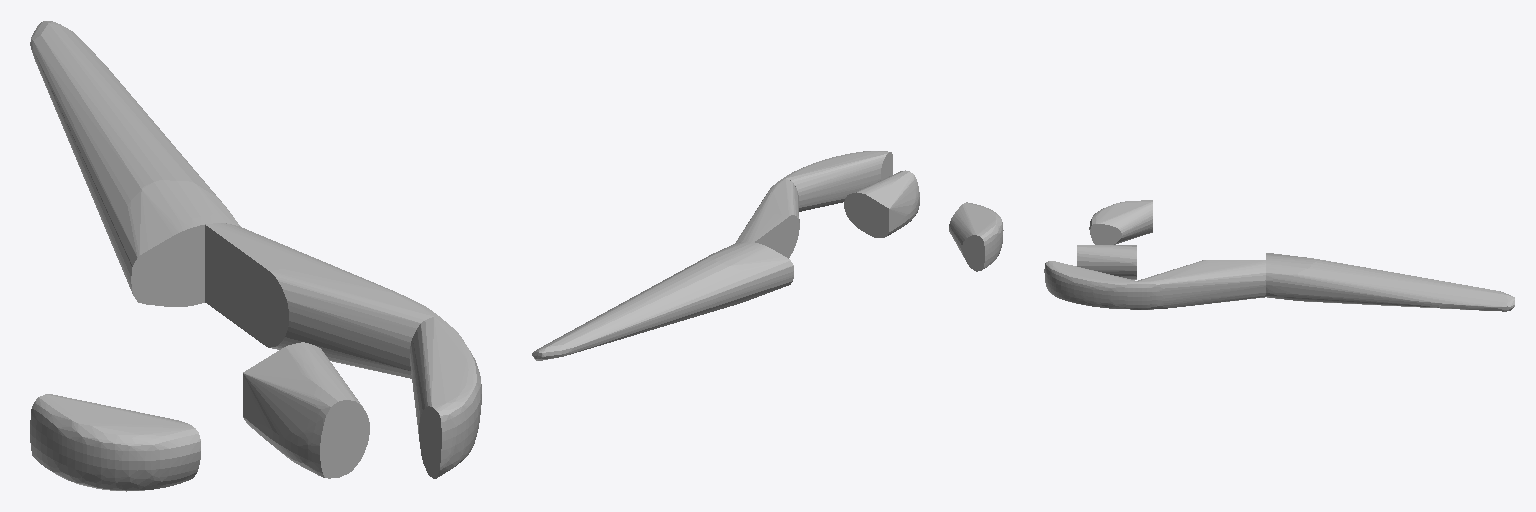
The robot description file, URDF, robot "root":
<robot name="root">
  <link name="link_coacd_convex_piece_0">
    <inertial>
      <origin xyz="0 0 0" rpy="0 0 0"/>
      <inertia ixx="6.97E-09" ixy="-1.32E-08" ixz="-7.20E-11" iyy="8.51E-09" iyz="-9.09E-11" izz="1.52E-08"/>
    </inertial>
    <visual>
      <origin xyz="0 0 0" rpy="0 0 0"/>
      <geometry>
        <mesh filename="coacd_convex_piece_0.obj" scale="1.0000E+00 1.0000E+00 1.0000E+00"/>
      </geometry>
      <material name="">
        <color rgba="7.50E-01 7.50E-01 7.50E-01 1"/>
      </material>
    </visual>
    <collision>
      <origin xyz="0 0 0" rpy="0 0 0"/>
      <geometry>
        <mesh filename="coacd_convex_piece_0.obj" scale="1.0000E+00 1.0000E+00 1.0000E+00"/>
      </geometry>
    </collision>
  </link>
  <link name="link_coacd_convex_piece_1">
    <inertial>
      <origin xyz="0 0 0" rpy="0 0 0"/>
      <inertia ixx="2.25E-11" ixy="-2.53E-09" ixz="-2.18E-11" iyy="9.84E-10" iyz="-3.52E-11" izz="8.66E-10"/>
    </inertial>
    <visual>
      <origin xyz="0 0 0" rpy="0 0 0"/>
      <geometry>
        <mesh filename="coacd_convex_piece_1.obj" scale="1.0000E+00 1.0000E+00 1.0000E+00"/>
      </geometry>
      <material name="">
        <color rgba="7.50E-01 7.50E-01 7.50E-01 1"/>
      </material>
    </visual>
    <collision>
      <origin xyz="0 0 0" rpy="0 0 0"/>
      <geometry>
        <mesh filename="coacd_convex_piece_1.obj" scale="1.0000E+00 1.0000E+00 1.0000E+00"/>
      </geometry>
    </collision>
  </link>
  <joint name="link_coacd_convex_piece_1_joint" type="fixed">
    <origin xyz="0 0 0" rpy="0 0 0"/>
    <parent link="link_coacd_convex_piece_0"/>
    <child link="link_coacd_convex_piece_1"/>
  </joint>
  <link name="link_coacd_convex_piece_2">
    <inertial>
      <origin xyz="0 0 0" rpy="0 0 0"/>
      <inertia ixx="1.04E-08" ixy="-7.77E-09" ixz="-7.35E-11" iyy="4.21E-09" iyz="-1.25E-10" izz="1.45E-08"/>
    </inertial>
    <visual>
      <origin xyz="0 0 0" rpy="0 0 0"/>
      <geometry>
        <mesh filename="coacd_convex_piece_2.obj" scale="1.0000E+00 1.0000E+00 1.0000E+00"/>
      </geometry>
      <material name="">
        <color rgba="7.50E-01 7.50E-01 7.50E-01 1"/>
      </material>
    </visual>
    <collision>
      <origin xyz="0 0 0" rpy="0 0 0"/>
      <geometry>
        <mesh filename="coacd_convex_piece_2.obj" scale="1.0000E+00 1.0000E+00 1.0000E+00"/>
      </geometry>
    </collision>
  </link>
  <joint name="link_coacd_convex_piece_2_joint" type="fixed">
    <origin xyz="0 0 0" rpy="0 0 0"/>
    <parent link="link_coacd_convex_piece_1"/>
    <child link="link_coacd_convex_piece_2"/>
  </joint>
  <link name="link_coacd_convex_piece_3">
    <inertial>
      <origin xyz="0 0 0" rpy="0 0 0"/>
      <inertia ixx="7.79E-09" ixy="-2.85E-09" ixz="-1.31E-11" iyy="6.13E-10" iyz="-3.74E-11" izz="8.35E-09"/>
    </inertial>
    <visual>
      <origin xyz="0 0 0" rpy="0 0 0"/>
      <geometry>
        <mesh filename="coacd_convex_piece_3.obj" scale="1.0000E+00 1.0000E+00 1.0000E+00"/>
      </geometry>
      <material name="">
        <color rgba="7.50E-01 7.50E-01 7.50E-01 1"/>
      </material>
    </visual>
    <collision>
      <origin xyz="0 0 0" rpy="0 0 0"/>
      <geometry>
        <mesh filename="coacd_convex_piece_3.obj" scale="1.0000E+00 1.0000E+00 1.0000E+00"/>
      </geometry>
    </collision>
  </link>
  <joint name="link_coacd_convex_piece_3_joint" type="fixed">
    <origin xyz="0 0 0" rpy="0 0 0"/>
    <parent link="link_coacd_convex_piece_2"/>
    <child link="link_coacd_convex_piece_3"/>
  </joint>
  <link name="link_coacd_convex_piece_4">
    <inertial>
      <origin xyz="0 0 0" rpy="0 0 0"/>
      <inertia ixx="1.69E-09" ixy="-4.27E-09" ixz="-4.82E-11" iyy="3.47E-09" iyz="-4.70E-11" izz="5.07E-09"/>
    </inertial>
    <visual>
      <origin xyz="0 0 0" rpy="0 0 0"/>
      <geometry>
        <mesh filename="coacd_convex_piece_4.obj" scale="1.0000E+00 1.0000E+00 1.0000E+00"/>
      </geometry>
      <material name="">
        <color rgba="7.50E-01 7.50E-01 7.50E-01 1"/>
      </material>
    </visual>
    <collision>
      <origin xyz="0 0 0" rpy="0 0 0"/>
      <geometry>
        <mesh filename="coacd_convex_piece_4.obj" scale="1.0000E+00 1.0000E+00 1.0000E+00"/>
      </geometry>
    </collision>
  </link>
  <joint name="link_coacd_convex_piece_4_joint" type="fixed">
    <origin xyz="0 0 0" rpy="0 0 0"/>
    <parent link="link_coacd_convex_piece_3"/>
    <child link="link_coacd_convex_piece_4"/>
  </joint>
  <link name="link_coacd_convex_piece_5">
    <inertial>
      <origin xyz="0 0 0" rpy="0 0 0"/>
      <inertia ixx="1.82E-08" ixy="6.66E-09" ixz="5.80E-12" iyy="2.58E-09" iyz="-2.81E-11" izz="2.07E-08"/>
    </inertial>
    <visual>
      <origin xyz="0 0 0" rpy="0 0 0"/>
      <geometry>
        <mesh filename="coacd_convex_piece_5.obj" scale="1.0000E+00 1.0000E+00 1.0000E+00"/>
      </geometry>
      <material name="">
        <color rgba="7.50E-01 7.50E-01 7.50E-01 1"/>
      </material>
    </visual>
    <collision>
      <origin xyz="0 0 0" rpy="0 0 0"/>
      <geometry>
        <mesh filename="coacd_convex_piece_5.obj" scale="1.0000E+00 1.0000E+00 1.0000E+00"/>
      </geometry>
    </collision>
  </link>
  <joint name="link_coacd_convex_piece_5_joint" type="fixed">
    <origin xyz="0 0 0" rpy="0 0 0"/>
    <parent link="link_coacd_convex_piece_4"/>
    <child link="link_coacd_convex_piece_5"/>
  </joint>
  <link name="link_coacd_convex_piece_6">
    <inertial>
      <origin xyz="0 0 0" rpy="0 0 0"/>
      <inertia ixx="2.88E-09" ixy="3.99E-10" ixz="-2.28E-11" iyy="8.16E-10" iyz="6.14E-11" izz="3.29E-09"/>
    </inertial>
    <visual>
      <origin xyz="0 0 0" rpy="0 0 0"/>
      <geometry>
        <mesh filename="coacd_convex_piece_6.obj" scale="1.0000E+00 1.0000E+00 1.0000E+00"/>
      </geometry>
      <material name="">
        <color rgba="7.50E-01 7.50E-01 7.50E-01 1"/>
      </material>
    </visual>
    <collision>
      <origin xyz="0 0 0" rpy="0 0 0"/>
      <geometry>
        <mesh filename="coacd_convex_piece_6.obj" scale="1.0000E+00 1.0000E+00 1.0000E+00"/>
      </geometry>
    </collision>
  </link>
  <joint name="link_coacd_convex_piece_6_joint" type="fixed">
    <origin xyz="0 0 0" rpy="0 0 0"/>
    <parent link="link_coacd_convex_piece_5"/>
    <child link="link_coacd_convex_piece_6"/>
  </joint>
  <link name="link_coacd_convex_piece_7">
    <inertial>
      <origin xyz="0 0 0" rpy="0 0 0"/>
      <inertia ixx="1.51E-09" ixy="4.45E-09" ixz="-4.33E-11" iyy="4.17E-09" iyz="6.20E-11" izz="5.48E-09"/>
    </inertial>
    <visual>
      <origin xyz="0 0 0" rpy="0 0 0"/>
      <geometry>
        <mesh filename="coacd_convex_piece_7.obj" scale="1.0000E+00 1.0000E+00 1.0000E+00"/>
      </geometry>
      <material name="">
        <color rgba="7.50E-01 7.50E-01 7.50E-01 1"/>
      </material>
    </visual>
    <collision>
      <origin xyz="0 0 0" rpy="0 0 0"/>
      <geometry>
        <mesh filename="coacd_convex_piece_7.obj" scale="1.0000E+00 1.0000E+00 1.0000E+00"/>
      </geometry>
    </collision>
  </link>
  <joint name="link_coacd_convex_piece_7_joint" type="fixed">
    <origin xyz="0 0 0" rpy="0 0 0"/>
    <parent link="link_coacd_convex_piece_6"/>
    <child link="link_coacd_convex_piece_7"/>
  </joint>
  <link name="link_coacd_convex_piece_8">
    <inertial>
      <origin xyz="0 0 0" rpy="0 0 0"/>
      <inertia ixx="1.29E-08" ixy="1.02E-10" ixz="-8.71E-12" iyy="5.86E-11" iyz="-4.82E-11" izz="1.28E-08"/>
    </inertial>
    <visual>
      <origin xyz="0 0 0" rpy="0 0 0"/>
      <geometry>
        <mesh filename="coacd_convex_piece_8.obj" scale="1.0000E+00 1.0000E+00 1.0000E+00"/>
      </geometry>
      <material name="">
        <color rgba="7.50E-01 7.50E-01 7.50E-01 1"/>
      </material>
    </visual>
    <collision>
      <origin xyz="0 0 0" rpy="0 0 0"/>
      <geometry>
        <mesh filename="coacd_convex_piece_8.obj" scale="1.0000E+00 1.0000E+00 1.0000E+00"/>
      </geometry>
    </collision>
  </link>
  <joint name="link_coacd_convex_piece_8_joint" type="fixed">
    <origin xyz="0 0 0" rpy="0 0 0"/>
    <parent link="link_coacd_convex_piece_7"/>
    <child link="link_coacd_convex_piece_8"/>
  </joint>
  <link name="link_coacd_convex_piece_9">
    <inertial>
      <origin xyz="0 0 0" rpy="0 0 0"/>
      <inertia ixx="1.06E-08" ixy="7.89E-10" ixz="4.60E-12" iyy="1.05E-10" iyz="-6.76E-11" izz="1.07E-08"/>
    </inertial>
    <visual>
      <origin xyz="0 0 0" rpy="0 0 0"/>
      <geometry>
        <mesh filename="coacd_convex_piece_9.obj" scale="1.0000E+00 1.0000E+00 1.0000E+00"/>
      </geometry>
      <material name="">
        <color rgba="7.50E-01 7.50E-01 7.50E-01 1"/>
      </material>
    </visual>
    <collision>
      <origin xyz="0 0 0" rpy="0 0 0"/>
      <geometry>
        <mesh filename="coacd_convex_piece_9.obj" scale="1.0000E+00 1.0000E+00 1.0000E+00"/>
      </geometry>
    </collision>
  </link>
  <joint name="link_coacd_convex_piece_9_joint" type="fixed">
    <origin xyz="0 0 0" rpy="0 0 0"/>
    <parent link="link_coacd_convex_piece_8"/>
    <child link="link_coacd_convex_piece_9"/>
  </joint>
</robot>

--- What the picture shows (computed from the rendered views, not written in the file) ---
The picture shows the robot from 3 angles, left to right: view 1: azimuth 30°, elevation 25°; view 2: azimuth 150°, elevation 25°; view 3: azimuth 270°, elevation 25°; orthographic projection.
Model root with 10 links and 9 joints (9 fixed), rooted at link_coacd_convex_piece_0, posed all joints at 0.
Links seen in each view (by area): view 1: link_coacd_convex_piece_0, link_coacd_convex_piece_7, link_coacd_convex_piece_2, link_coacd_convex_piece_8, link_coacd_convex_piece_5; view 2: link_coacd_convex_piece_0, link_coacd_convex_piece_5, link_coacd_convex_piece_8, link_coacd_convex_piece_7, link_coacd_convex_piece_2; view 3: link_coacd_convex_piece_0, link_coacd_convex_piece_7, link_coacd_convex_piece_5, link_coacd_convex_piece_2, link_coacd_convex_piece_8.
Link boxes in pixels (box(x1,y1,x2,y2)): link_coacd_convex_piece_0: box(30, 21, 240, 306); link_coacd_convex_piece_7: box(205, 223, 439, 378); link_coacd_convex_piece_2: box(30, 394, 200, 491); link_coacd_convex_piece_8: box(243, 342, 369, 478); link_coacd_convex_piece_5: box(410, 317, 481, 478); link_coacd_convex_piece_0: box(532, 242, 793, 360); link_coacd_convex_piece_5: box(783, 151, 892, 211); link_coacd_convex_piece_8: box(844, 170, 919, 237); link_coacd_convex_piece_7: box(736, 179, 799, 258); link_coacd_convex_piece_2: box(949, 202, 1003, 271); link_coacd_convex_piece_0: box(1266, 253, 1514, 311); link_coacd_convex_piece_7: box(1137, 260, 1265, 309); link_coacd_convex_piece_5: box(1044, 261, 1136, 309); link_coacd_convex_piece_2: box(1089, 200, 1152, 244); link_coacd_convex_piece_8: box(1077, 245, 1136, 279).
Size in the robot's own frame: 0.0977 by 0.2027 by 0.0175 metres.
5 mesh visuals loaded from 10 distinct referenced files (5 OBJ); not drawn: 5 (reference not matched to a file when rendering).